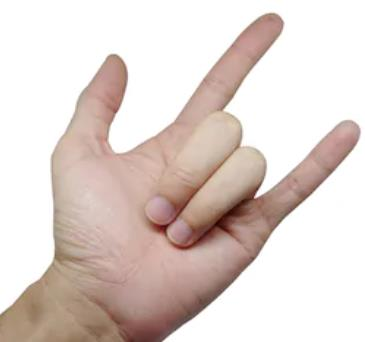back: (44, 8, 362, 325)
